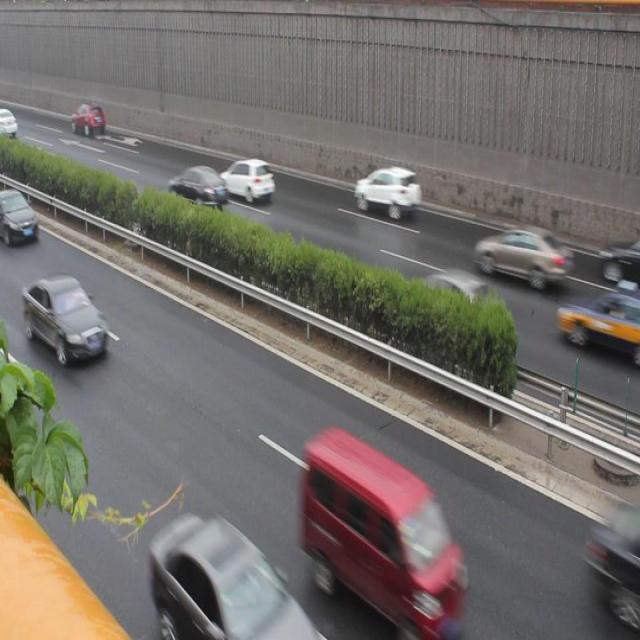car: (152, 512, 326, 640), (26, 266, 111, 366), (407, 261, 504, 343), (475, 221, 564, 297), (560, 285, 640, 368), (356, 162, 422, 220), (594, 228, 640, 296), (166, 163, 228, 210), (1, 181, 40, 250), (220, 160, 276, 201), (71, 101, 107, 138)
truck: (303, 430, 471, 640)
